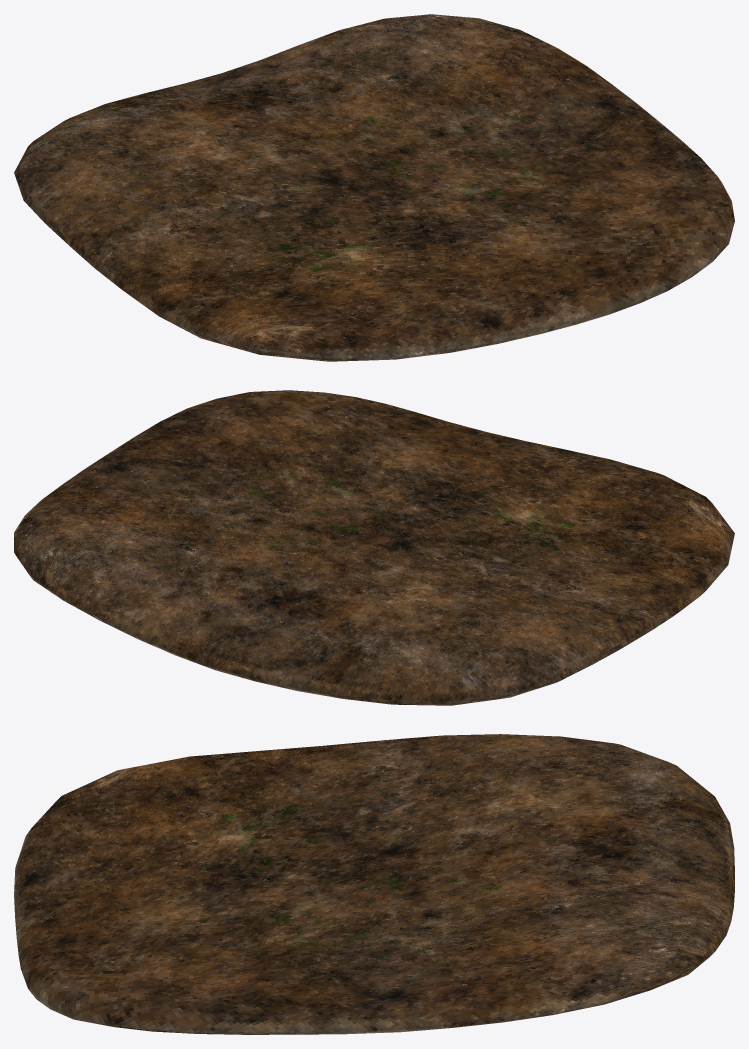
Rendered from SM_TI_Ground_1.gltf.
3 views of the same model, one above another, from view 1: azimuth 30°, elevation 25°; view 2: azimuth 150°, elevation 25°; view 3: azimuth 270°, elevation 25° (orthographic). The views are drawn at different scales.
Visible parts, largest first — view 1: SM_TI_Ground_1; view 2: SM_TI_Ground_1; view 3: SM_TI_Ground_1.
Part boxes in pixels (box(x1,y1,x2,y2)): SM_TI_Ground_1: box(14, 14, 734, 361); SM_TI_Ground_1: box(14, 390, 734, 705); SM_TI_Ground_1: box(14, 734, 734, 1034).
Size of the model in its own units: 12.31 by 1.56 by 12.28.
1 material, 1 textured.
